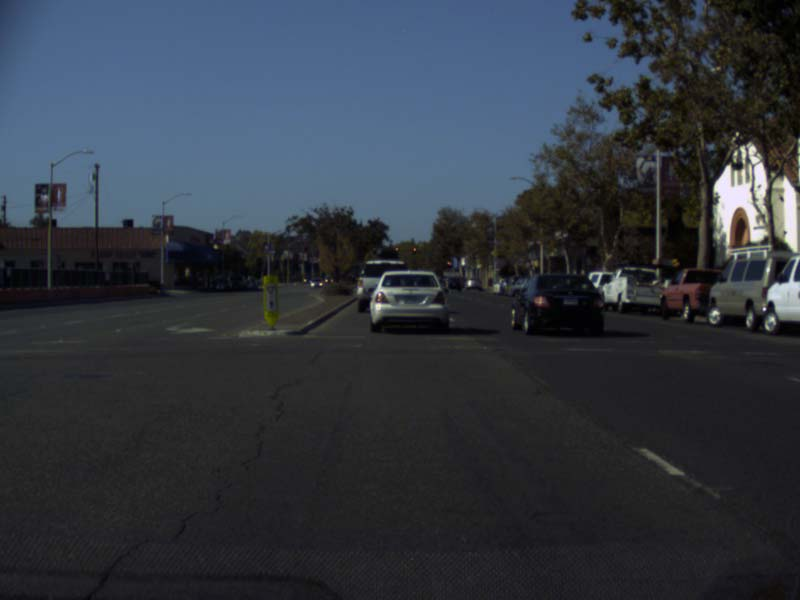Red: (393, 245, 399, 253), (412, 246, 417, 254), (372, 246, 376, 251), (447, 261, 452, 264)
